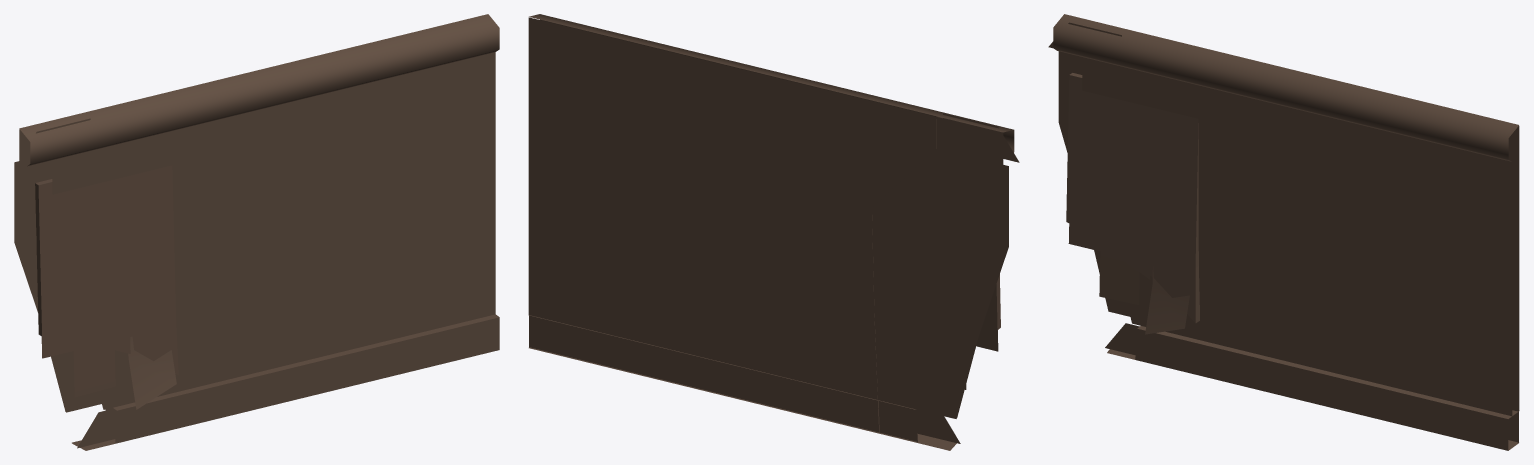
File: DBK_Bottom_Molding_Side_C_Mirror.fbx
3 renders of one model, left to right at view 1: azimuth 30°, elevation 25°; view 2: azimuth 150°, elevation 25°; view 3: azimuth 330°, elevation 25°, orthographic. The views are drawn at different scales.
Visible parts, largest first — view 1: DBK_Bottom_Molding_Side_C_Mirror; view 2: DBK_Bottom_Molding_Side_C_Mirror; view 3: DBK_Bottom_Molding_Side_C_Mirror.
Part boxes in pixels (left/top/right/bottom): DBK_Bottom_Molding_Side_C_Mirror: left=14, top=14, right=499, bottom=450; DBK_Bottom_Molding_Side_C_Mirror: left=528, top=14, right=1019, bottom=450; DBK_Bottom_Molding_Side_C_Mirror: left=1048, top=14, right=1519, bottom=450.
Bounding box in the file's own units: 153 × 100 × 9.62.
